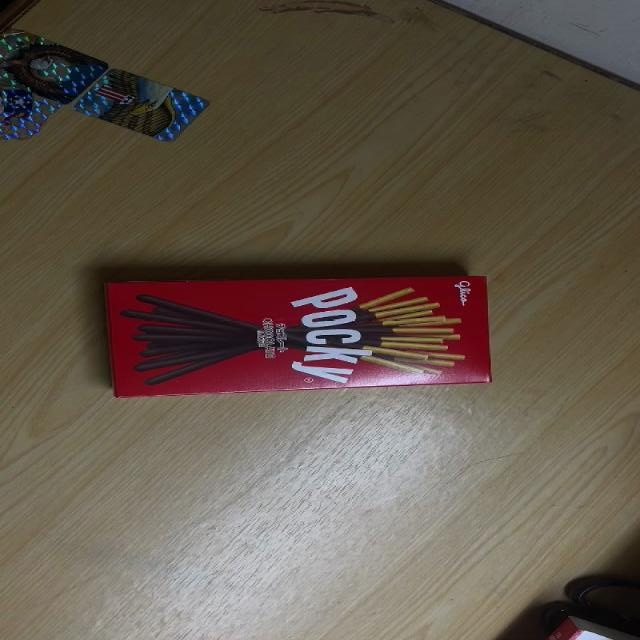Pocky: (106, 273, 494, 401)
